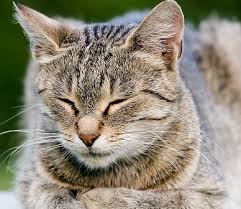Gato: (6, 2, 219, 190)
